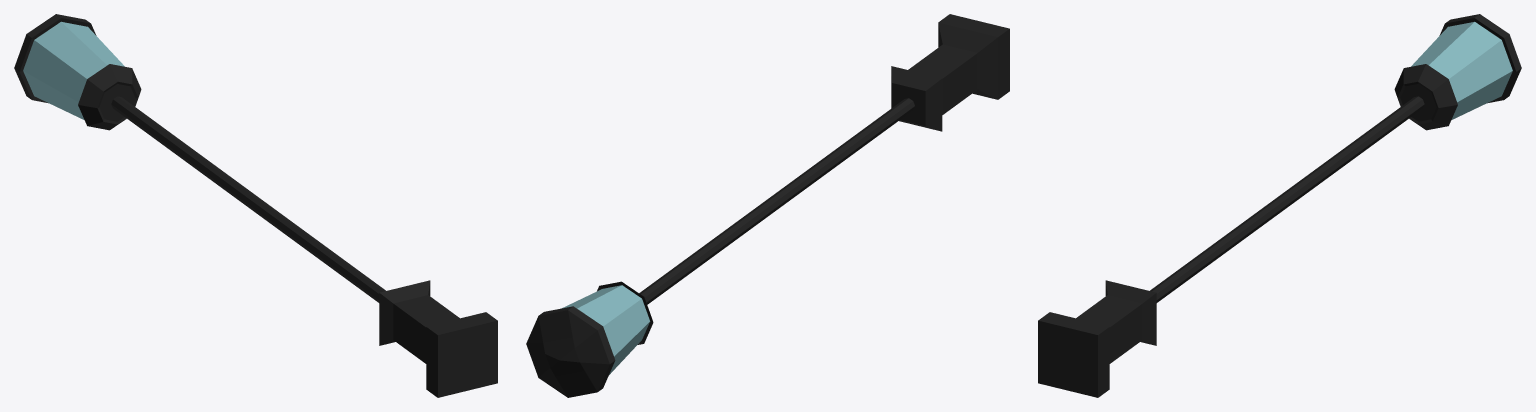
Rendered from Faro.fbx.
The picture shows the model from 3 angles, left to right: view 1: azimuth 30°, elevation 25°; view 2: azimuth 150°, elevation 25°; view 3: azimuth 330°, elevation 25°; orthographic projection.
Visible parts, largest first — view 1: Cilindro.002; view 2: Cilindro.002; view 3: Cilindro.002.
Boxes of the visible parts, left/top/right/bottom form: Cilindro.002: left=14, top=14, right=497, bottom=397; Cilindro.002: left=526, top=14, right=1009, bottom=397; Cilindro.002: left=1038, top=14, right=1521, bottom=397.
Size of the model in its own units: 109 by 109 by 944.
1 material, 1 textured.
